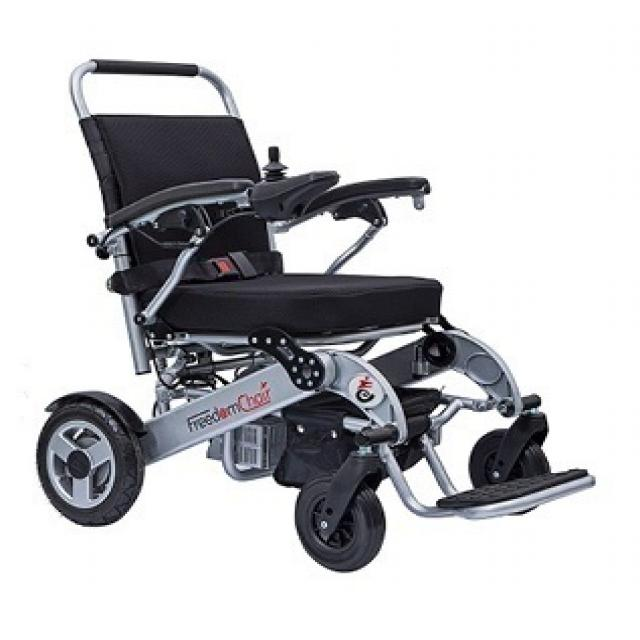wheelchair: (35, 44, 604, 584)
